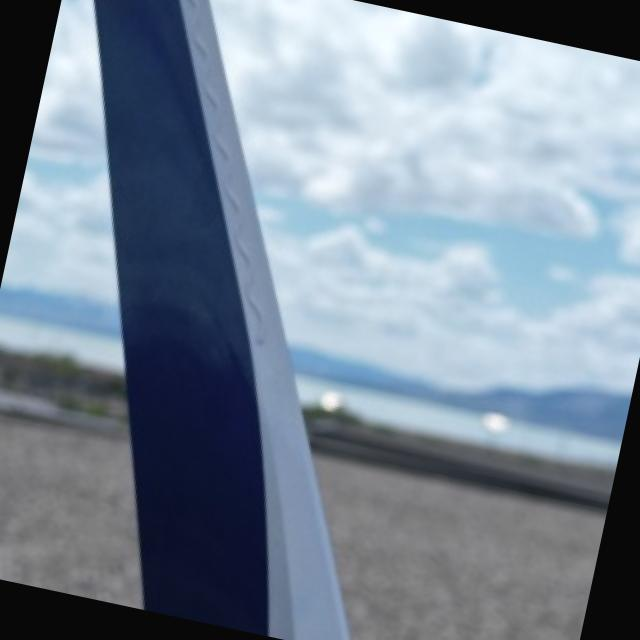healthy: (93, 0, 348, 640)
